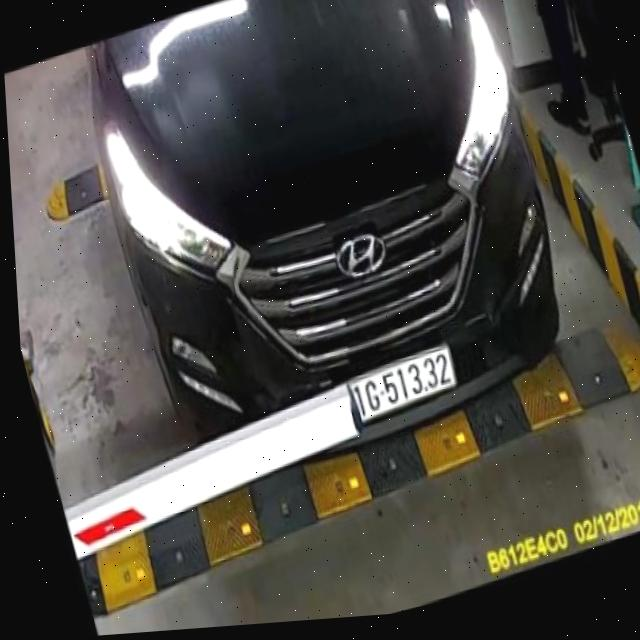car: (62, 0, 597, 502)
plate: (312, 340, 465, 437)
